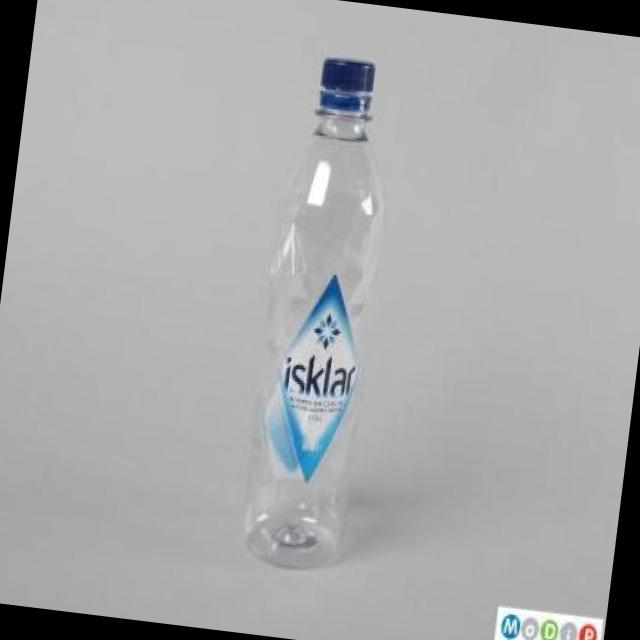plastic_bottle: (230, 52, 402, 576)
